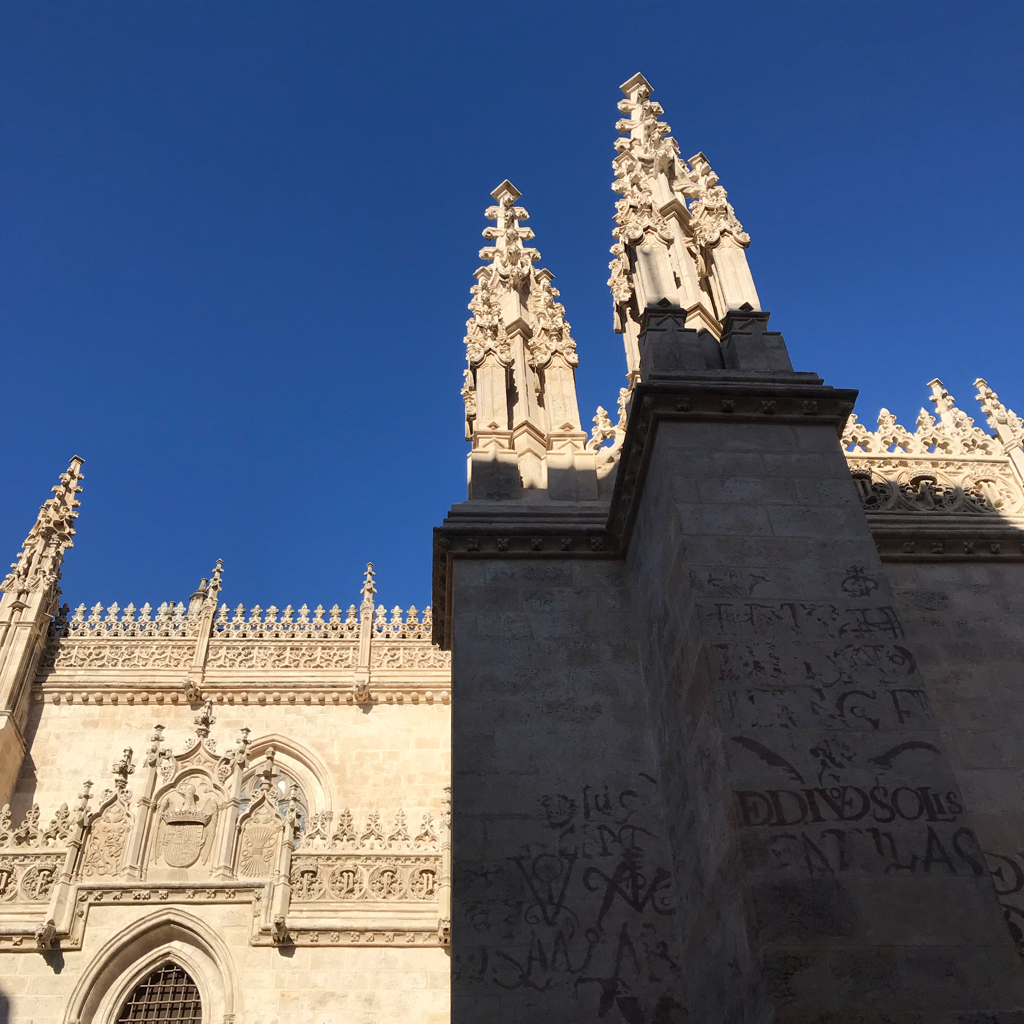arco-apuntado: (69, 903, 242, 1024)
pinaculo-gotico: (598, 68, 757, 274), (464, 172, 579, 365), (1, 450, 90, 618)
